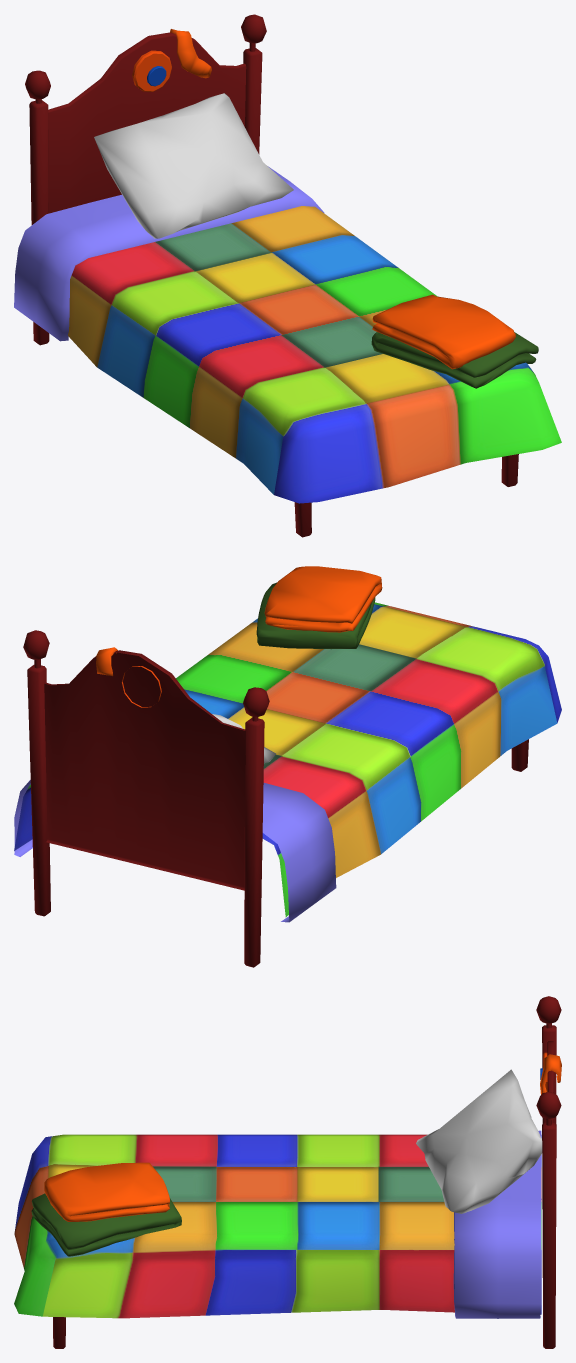
File: bed.fbx
3 renders of one model, top to bottom at view 1: azimuth 30°, elevation 25°; view 2: azimuth 150°, elevation 25°; view 3: azimuth 270°, elevation 25°, orthographic. The views are drawn at different scales.
Visible parts, largest first — view 1: bed; view 2: bed; view 3: bed.
Boxes of the visible parts, <box> form: bed: <box>14,14,561,537</box>; bed: <box>14,566,561,967</box>; bed: <box>14,996,561,1348</box>.
Bounding box in the file's own units: 6.94 × 6.58 × 12.54.
